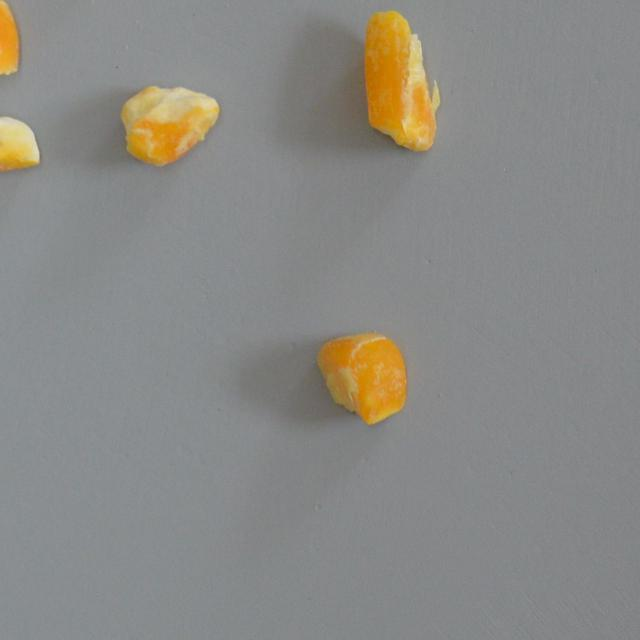pelicula: (360, 7, 444, 154), (316, 330, 408, 426), (118, 84, 220, 166), (0, 106, 40, 175), (0, 0, 24, 80)
